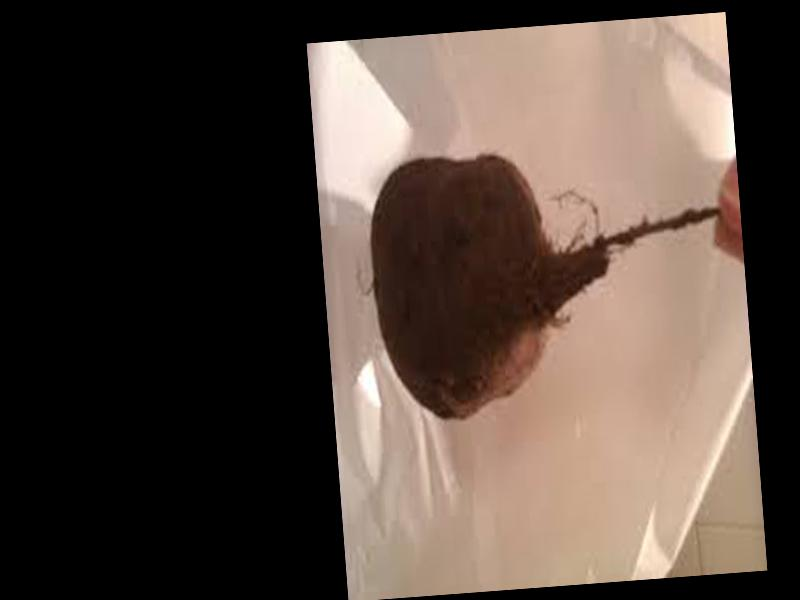Beet: (364, 136, 737, 426)
